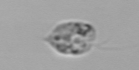plankton: (41, 18, 103, 61)
